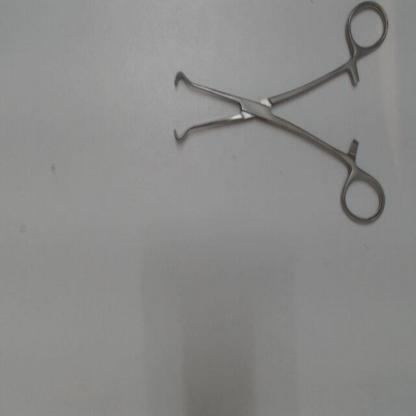Babcock Tissue Forceps: (168, 0, 392, 229)
